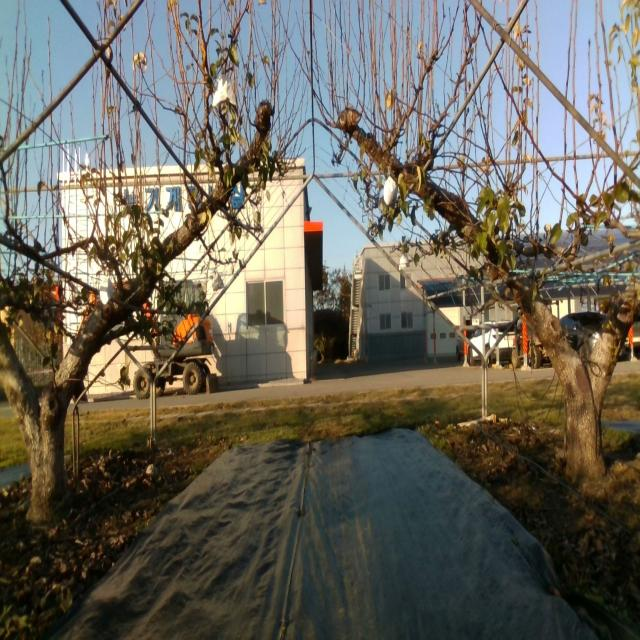pearbags: (212, 72, 238, 109), (99, 271, 113, 305), (384, 177, 398, 210), (212, 268, 225, 291), (398, 254, 409, 272)
